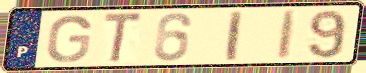6: (152, 11, 193, 63)
9: (305, 8, 349, 60)
G: (44, 14, 93, 64)
I: (275, 9, 301, 61), (225, 9, 245, 63)
T: (101, 11, 146, 65)
